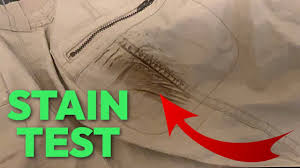earth: (122, 52, 189, 90)
